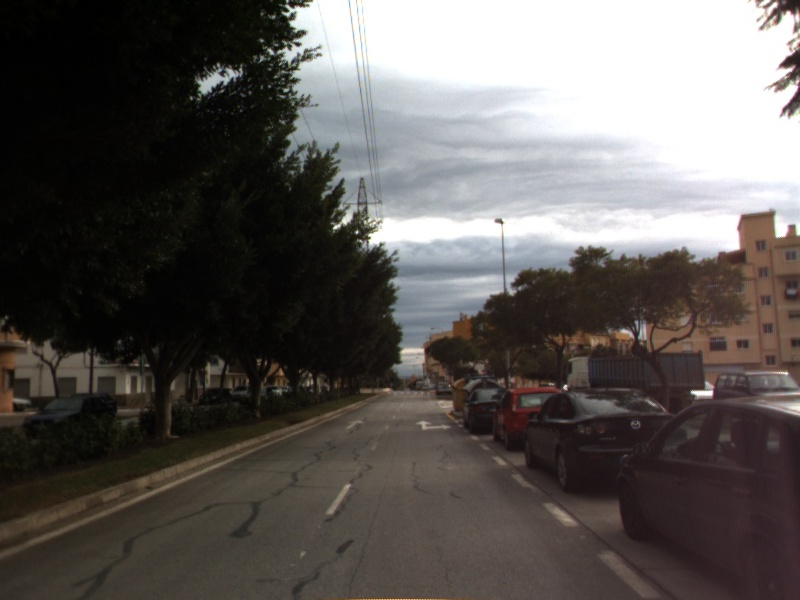STRAIGHT: (343, 417, 367, 431)
STRAIGHT_RIGHT: (413, 418, 454, 432)
